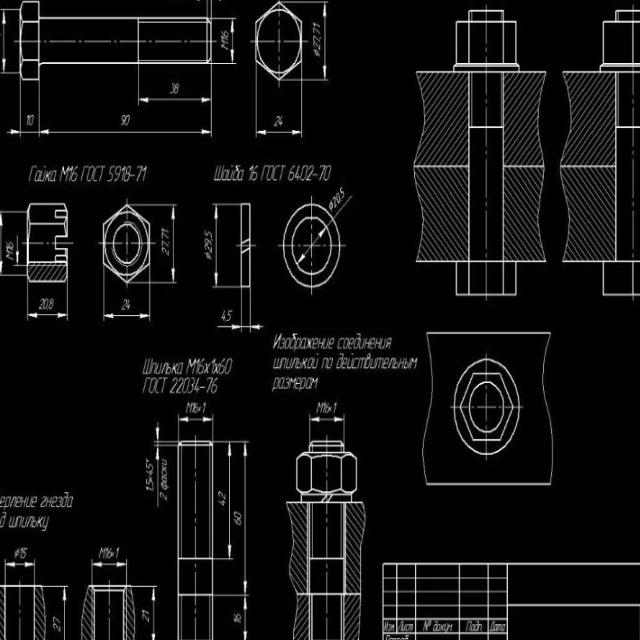marking_line: (41, 127, 211, 137), (243, 444, 247, 594), (0, 11, 8, 73), (322, 2, 328, 80), (170, 206, 176, 280), (141, 97, 212, 103), (213, 205, 218, 286), (105, 311, 149, 319), (228, 443, 231, 558), (155, 448, 160, 508), (151, 587, 156, 640), (62, 587, 67, 640), (242, 596, 248, 640), (311, 415, 343, 423), (29, 312, 68, 318), (257, 130, 302, 135), (180, 416, 212, 423), (93, 561, 126, 567), (0, 212, 3, 274), (14, 234, 20, 265), (231, 20, 235, 65), (5, 125, 20, 136), (6, 561, 33, 566), (156, 420, 162, 441), (216, 324, 240, 329), (251, 324, 266, 331)
numeric: (171, 376, 199, 394), (145, 461, 155, 494), (311, 22, 323, 49), (218, 358, 234, 377), (37, 296, 56, 311), (160, 228, 169, 257), (202, 227, 212, 253), (333, 186, 345, 207), (219, 308, 234, 324), (206, 377, 218, 396), (51, 616, 62, 633), (120, 114, 133, 128), (106, 546, 120, 559), (232, 511, 242, 528), (120, 298, 132, 312), (217, 490, 226, 508), (140, 608, 150, 624), (169, 82, 180, 95), (232, 611, 242, 625), (25, 115, 35, 127), (220, 29, 229, 42), (159, 491, 169, 502), (274, 116, 283, 128), (20, 547, 27, 562), (323, 402, 330, 415), (7, 241, 13, 253)
special_symbol: (13, 546, 20, 559), (328, 201, 336, 212)
